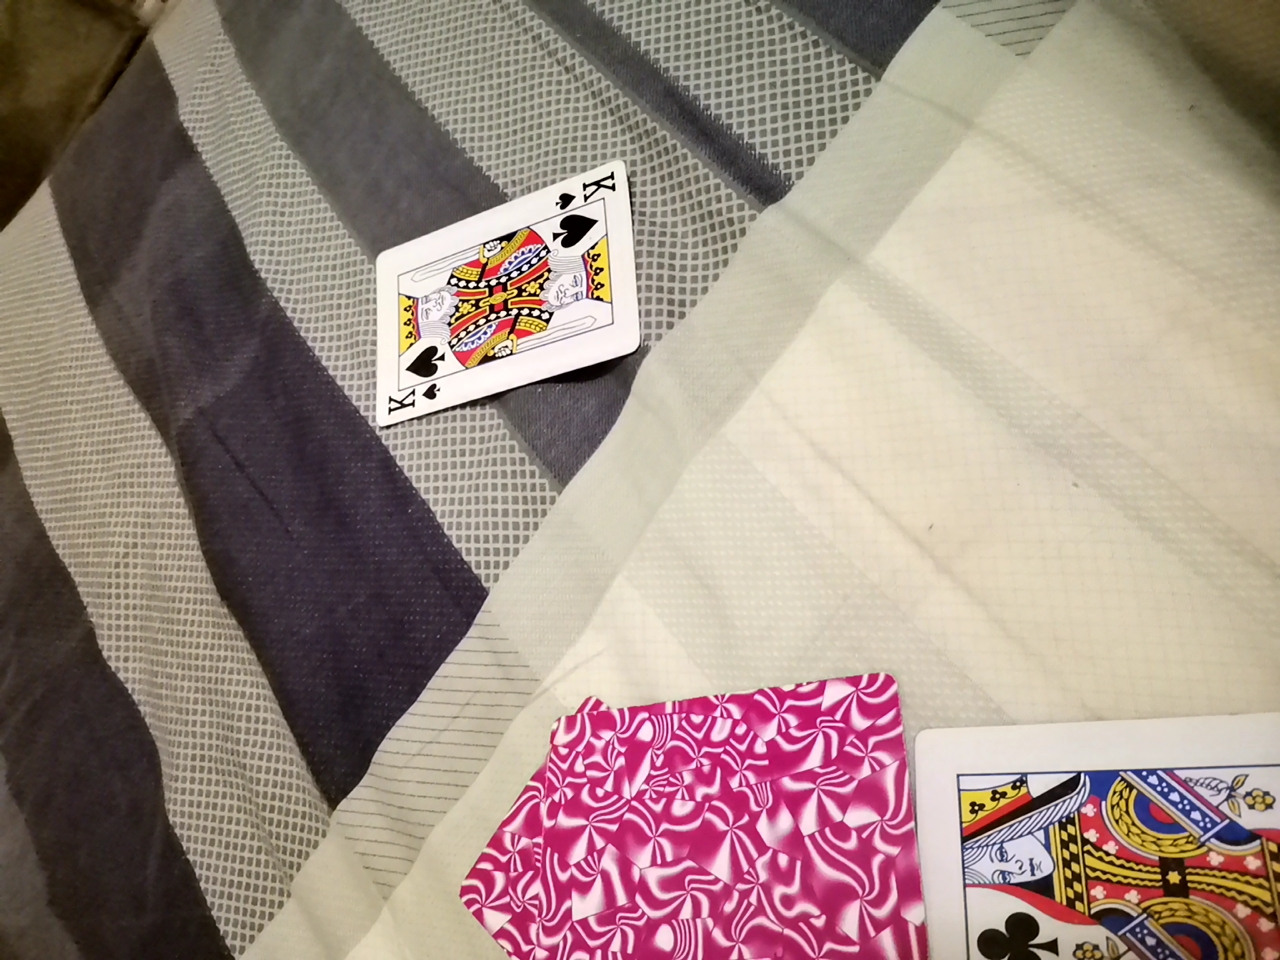ht k: (325, 117, 667, 449)
